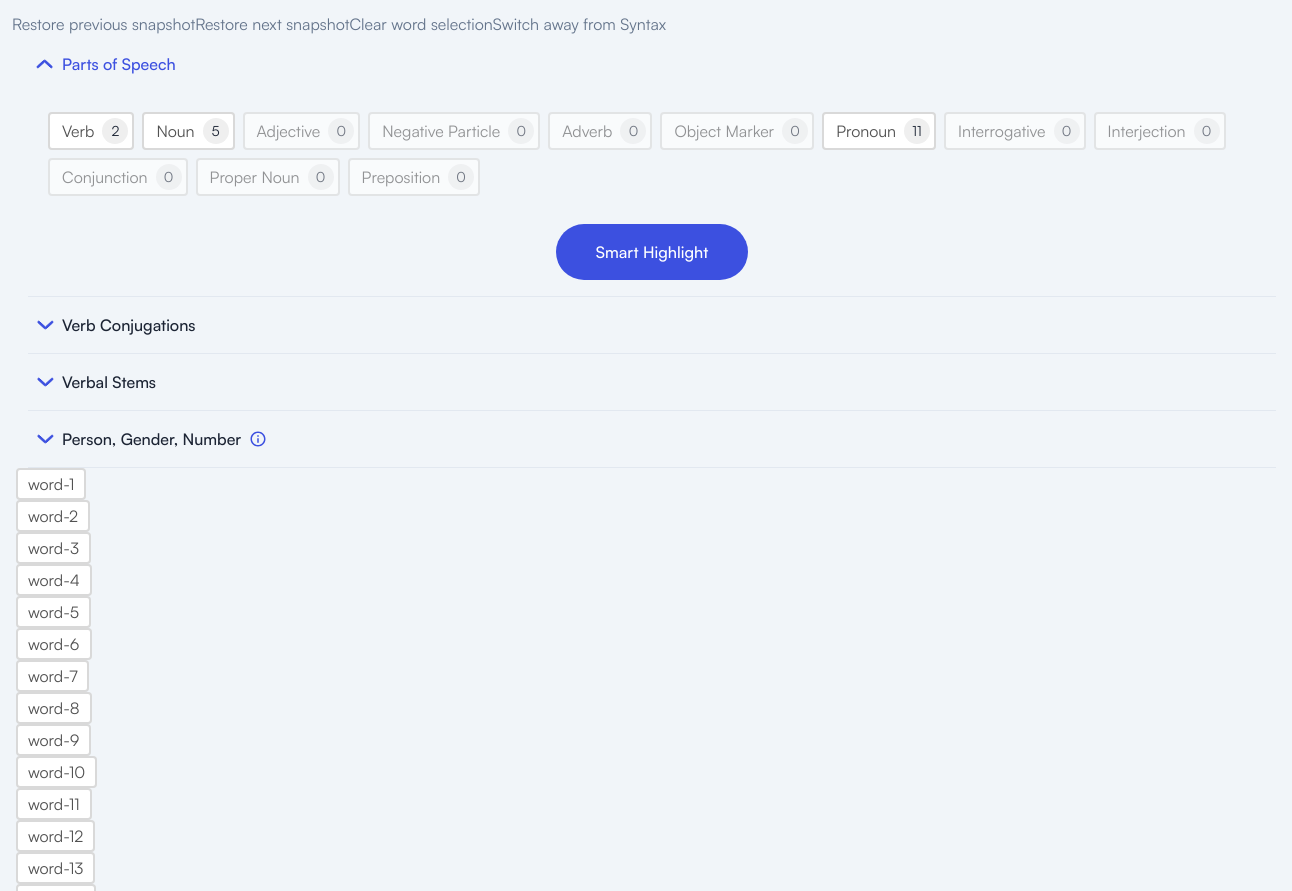
Person, Gender, Number acceptance › replaces the separate groups with exactly ten row-major, one-line gloss/code/count buttons
Click the button "Person, Gender, Number".
click(139, 439)  # box [36, 427, 241, 451]
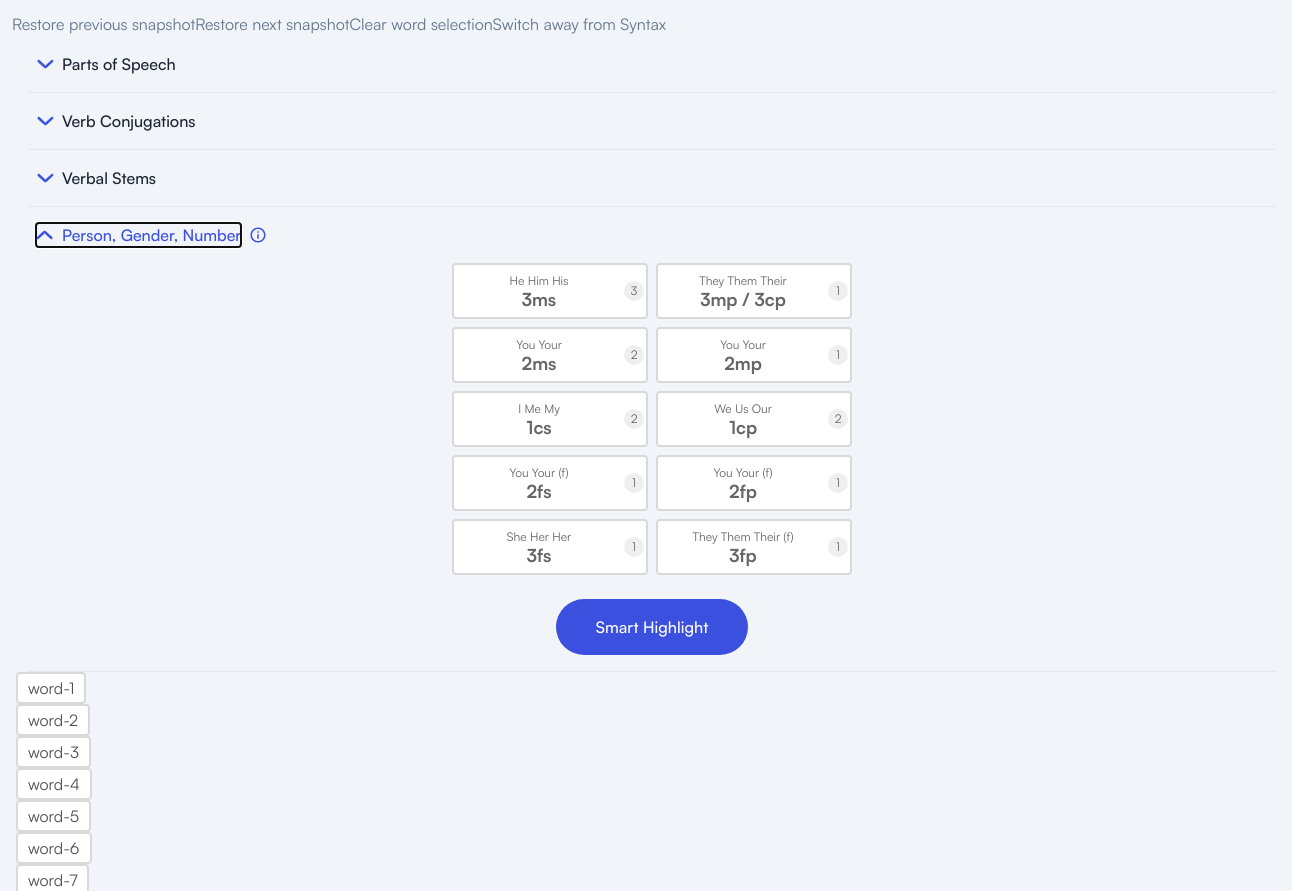
Now the number of buttons named " occurrences" is 10
Now the button "Person, Gender, Number" is expanded, box [36, 223, 241, 247]
